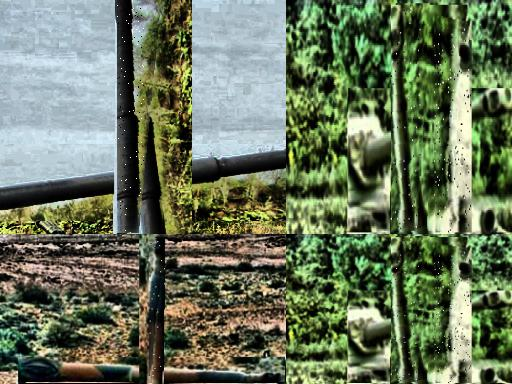tanks: (436, 35, 472, 235), (393, 4, 421, 233), (118, 1, 145, 235), (436, 257, 472, 384), (393, 237, 421, 384), (150, 235, 166, 384)
